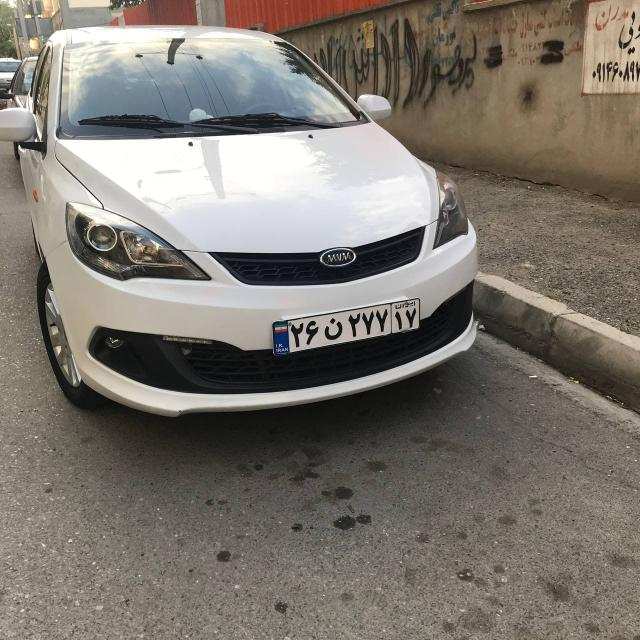Plates: (268, 294, 425, 355)
